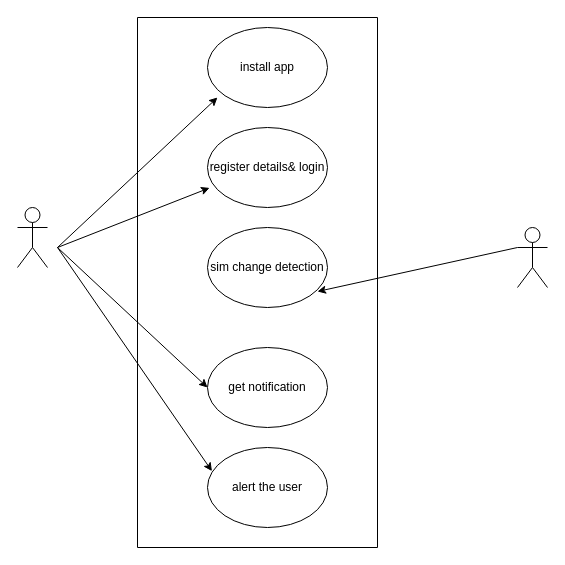
The diagram is 565 pixels wide and 565 high, and some of its shapes have lost their labels. Each missing label, with the centre of its shape:
theif: point 532,257
user: point 32,237
